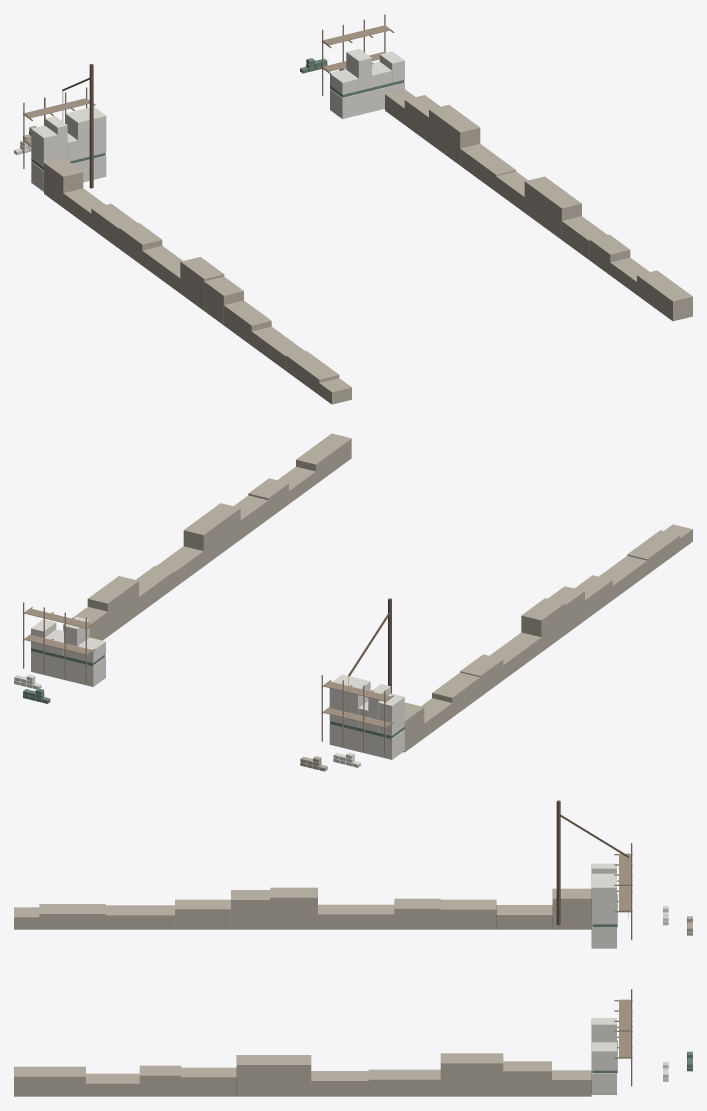
The model's file is cattedrale.glb.
3 views of the same model, one above another, from view 1: azimuth 30°, elevation 25°; view 2: azimuth 150°, elevation 25°; view 3: azimuth 270°, elevation 25° (orthographic).
Parts seen in each view (by area): view 1: cattedrale; view 2: cattedrale; view 3: cattedrale.
Boxes of the visible parts, <box> form: cattedrale: <box>14,14,692,404</box>; cattedrale: <box>14,433,692,771</box>; cattedrale: <box>14,800,692,1096</box>.
Size of the model in its own units: 43.16 by 15.2 by 69.8.
